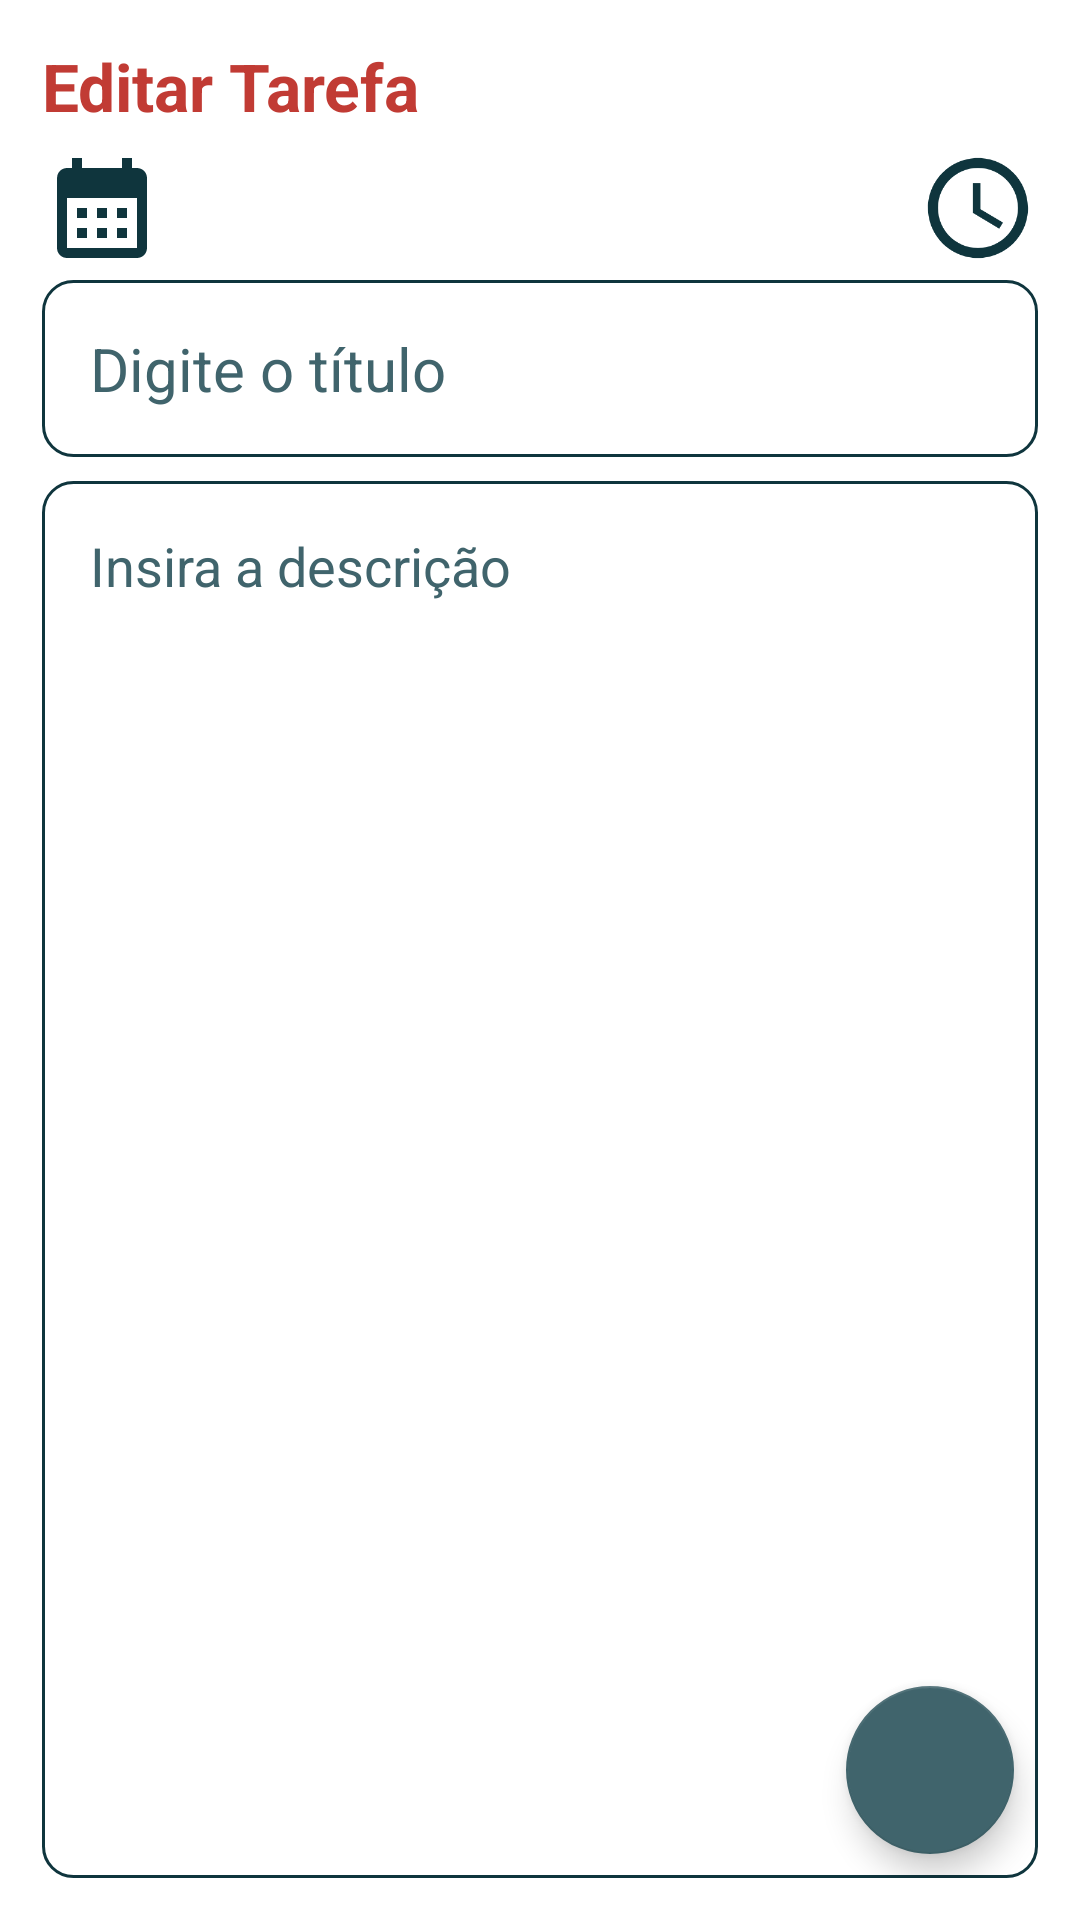

Point at icon controls on the screen. Image size 1080×1920, points as [x,y].
Selecione a data: [102,208]
Selecione a hora: [977,208]
